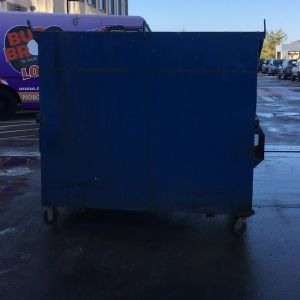Dumpster: (25, 17, 270, 236)
